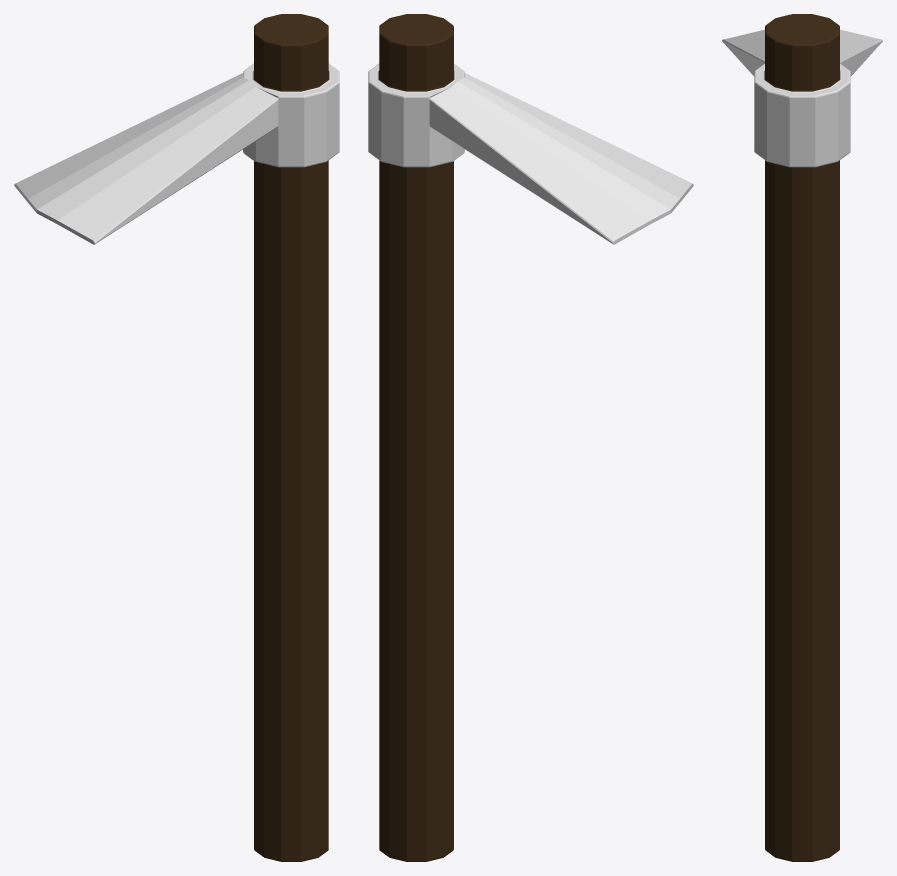
File: azada.fbx
3 views of the same model, side by side, from view 1: azimuth 30°, elevation 25°; view 2: azimuth 150°, elevation 25°; view 3: azimuth 270°, elevation 25° (orthographic).
Parts seen in each view (by area): view 1: azada; view 2: azada; view 3: azada.
Boxes of the visible parts, bbox=[...] form: azada: bbox=[14, 14, 339, 861]; azada: bbox=[368, 14, 693, 861]; azada: bbox=[722, 14, 882, 861].
Size of the model in its own units: 66.37 by 175 by 31.22.
